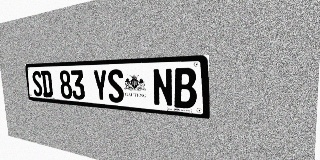3: (71, 70, 85, 100)
8: (59, 70, 73, 99)
B: (173, 68, 197, 109)
D: (41, 71, 53, 97)
N: (152, 68, 174, 107)
S: (107, 69, 125, 103), (31, 71, 43, 97)
Y: (92, 69, 109, 102)
